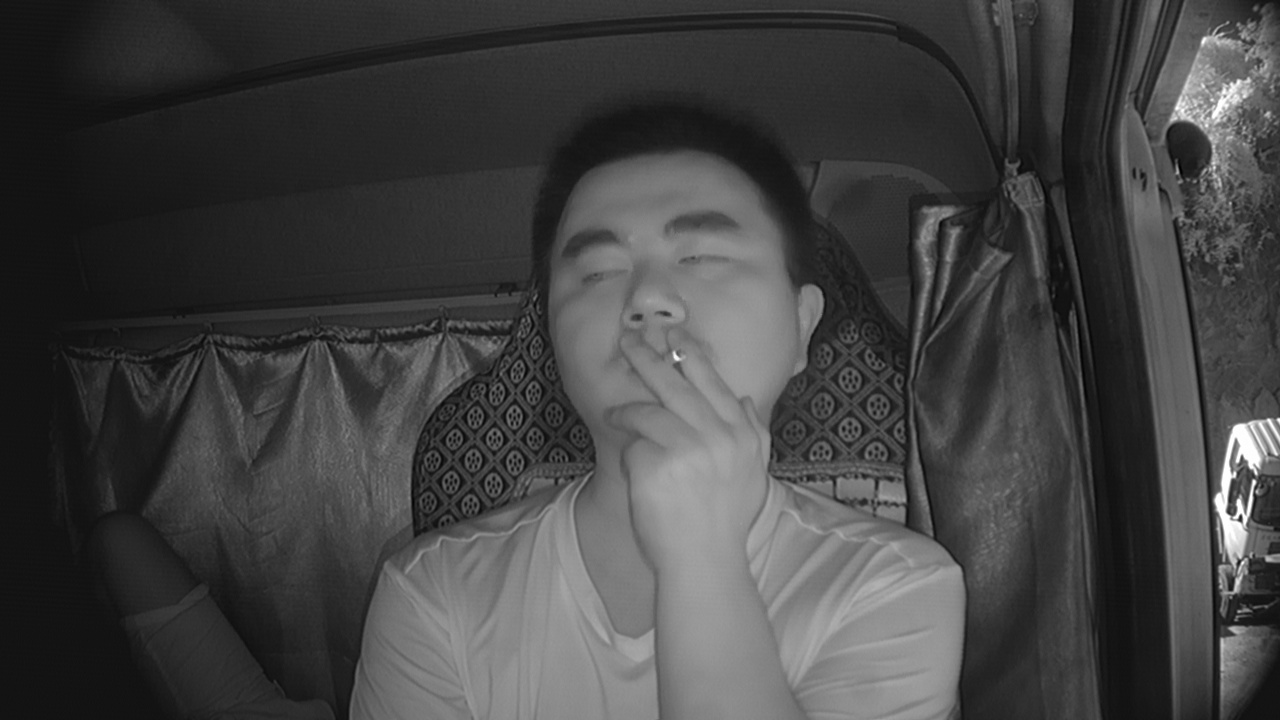hand: (608, 328, 773, 552)
